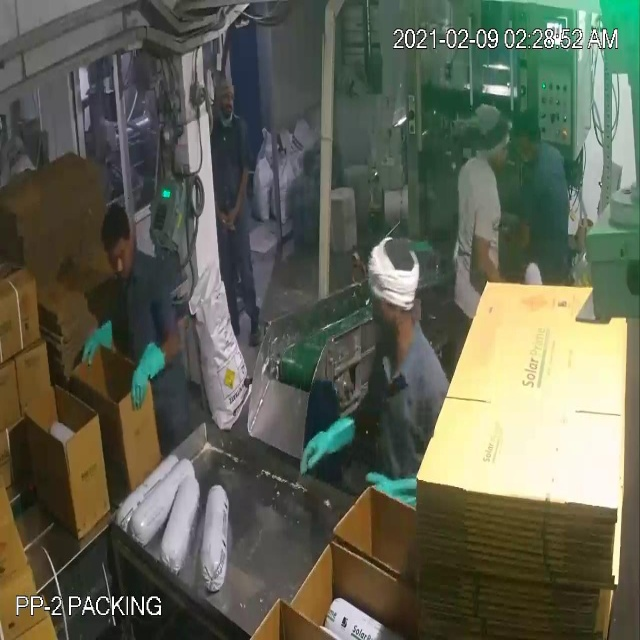Guantes: (295, 399, 361, 485), (122, 337, 173, 410), (364, 470, 427, 509), (76, 306, 111, 367)
Sin_guantes: (468, 231, 524, 293), (224, 163, 257, 226), (500, 207, 537, 253)
